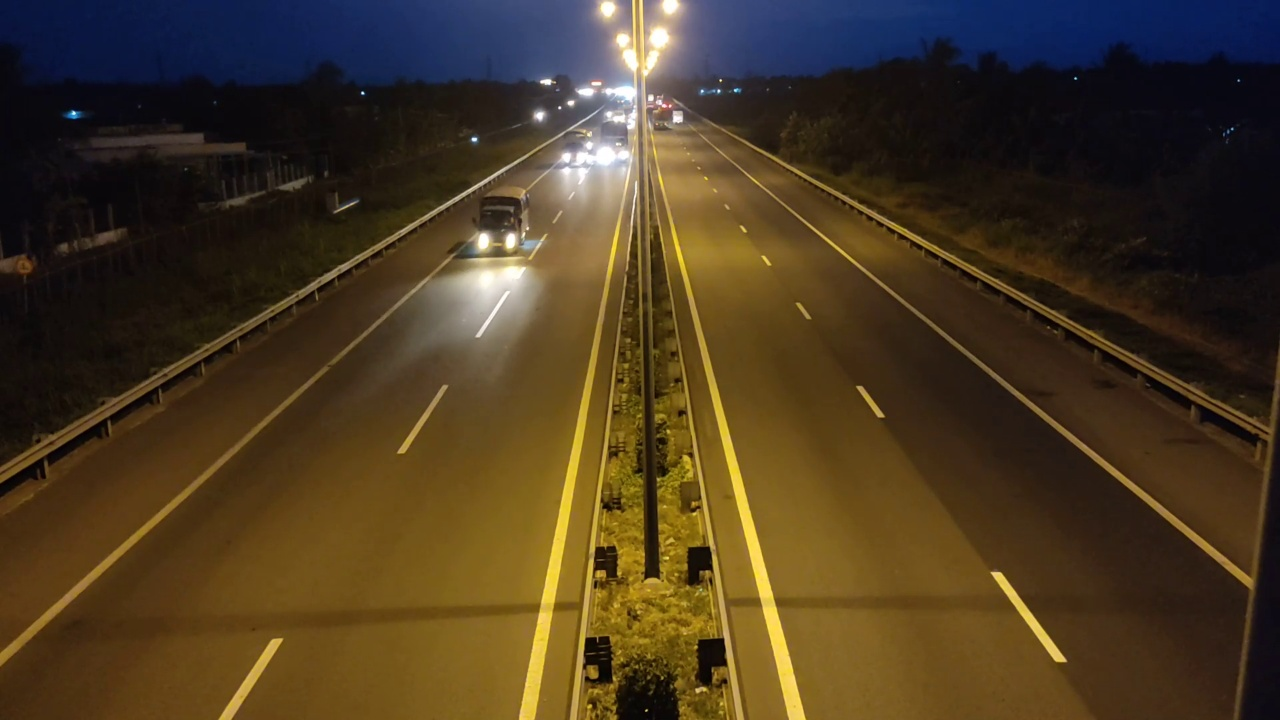truck: (469, 177, 533, 255)
